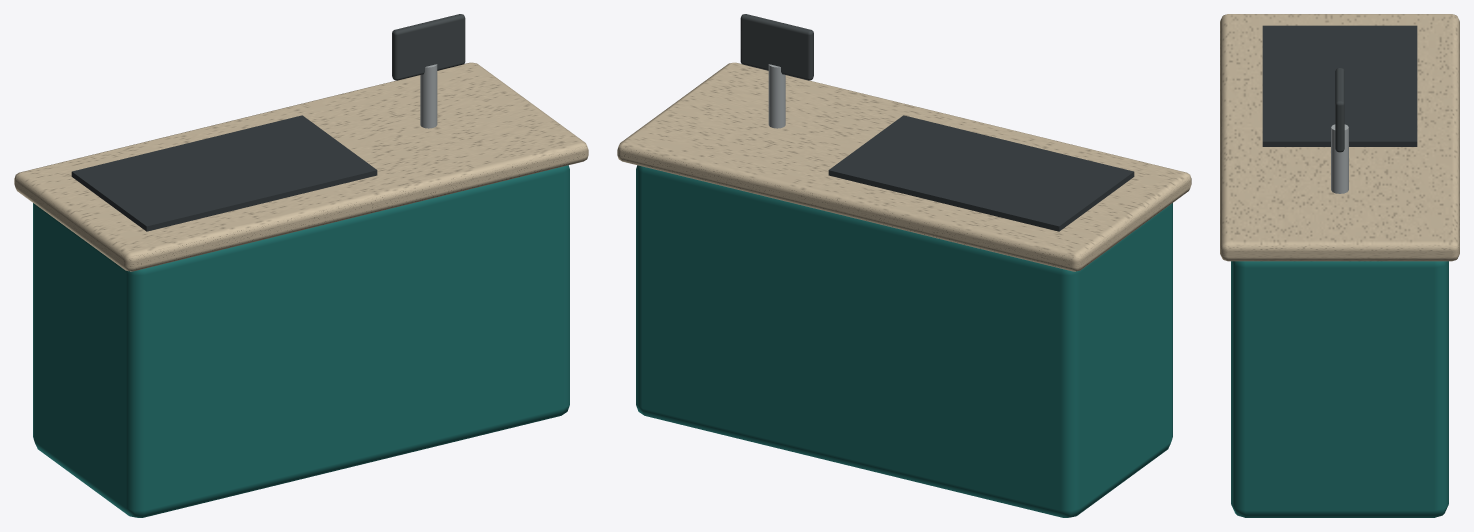
File: market-checkout-2cd5a8d2e870.glb
3 renders of one model, left to right at view 1: azimuth 30°, elevation 25°; view 2: azimuth 150°, elevation 25°; view 3: azimuth 270°, elevation 25°, orthographic. The views are drawn at different scales.
Visible parts, largest first — view 1: surface_teal, surface_terrazzo, surface_rubber, surface_graphite, surface_steel; view 2: surface_teal, surface_terrazzo, surface_rubber, surface_graphite, surface_steel; view 3: surface_teal, surface_terrazzo, surface_rubber, surface_steel, surface_graphite.
Part boxes in pixels (x1=…): surface_teal: x1=33, y1=165, x2=569, y2=517; surface_terrazzo: x1=14, y1=62, x2=588, y2=271; surface_rubber: x1=71, y1=115, x2=377, y2=231; surface_graphite: x1=392, y1=14, x2=465, y2=80; surface_steel: x1=420, y1=64, x2=437, y2=128; surface_teal: x1=636, y1=165, x2=1172, y2=517; surface_terrazzo: x1=617, y1=62, x2=1191, y2=271; surface_rubber: x1=828, y1=115, x2=1134, y2=231; surface_graphite: x1=740, y1=14, x2=813, y2=80; surface_steel: x1=768, y1=64, x2=785, y2=128; surface_teal: x1=1231, y1=261, x2=1448, y2=517; surface_terrazzo: x1=1220, y1=14, x2=1459, y2=261; surface_rubber: x1=1262, y1=25, x2=1417, y2=146; surface_steel: x1=1331, y1=124, x2=1348, y2=193; surface_graphite: x1=1335, y1=68, x2=1344, y2=152.
Size of the model in its own units: 1.75 by 1.37 by 0.76.
Materials: 5 (1 with a texture image).
